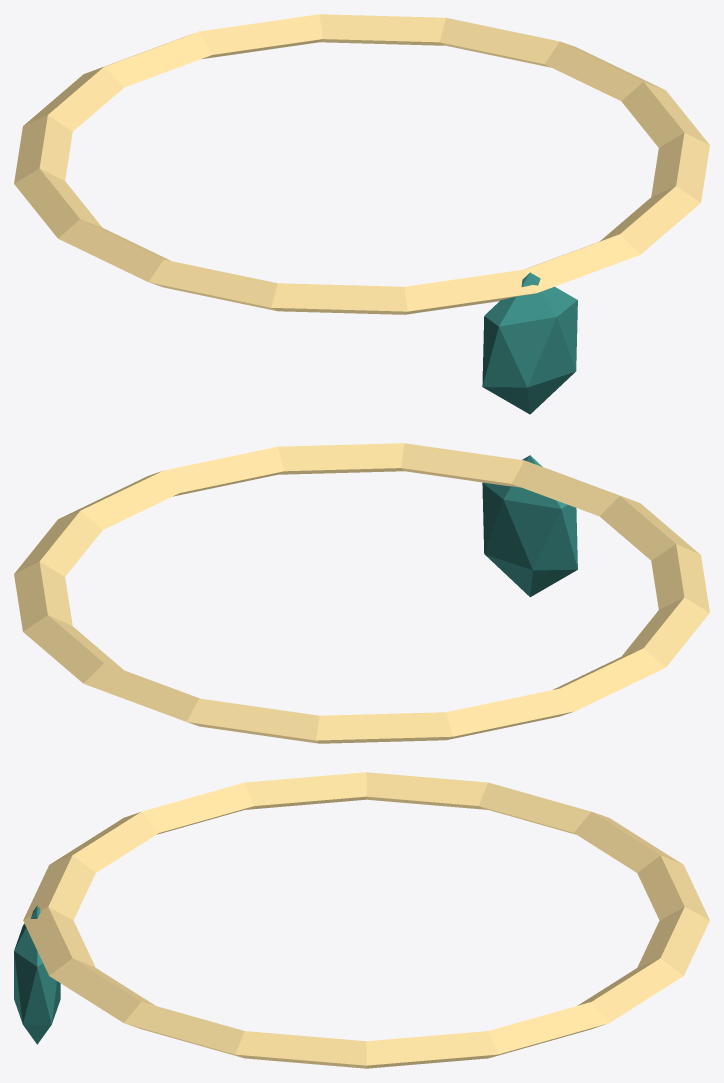
Rendered from necklace_chain.glb.
3 renders of one model, top to bottom at view 1: azimuth 30°, elevation 25°; view 2: azimuth 150°, elevation 25°; view 3: azimuth 270°, elevation 25°, orthographic. The views are drawn at different scales.
Parts seen in each view (by area): view 1: chain, pendant; view 2: chain, pendant; view 3: chain, pendant.
Boxes of the visible parts, x1=… form: chain: x1=14, y1=14, x2=709, y2=314; pendant: x1=482, y1=272, x2=577, y2=414; chain: x1=14, y1=443, x2=709, y2=743; pendant: x1=482, y1=455, x2=577, y2=597; chain: x1=23, y1=772, x2=709, y2=1068; pendant: x1=14, y1=905, x2=60, y2=1044.
Size of the model in its own units: 0.626 by 0.14 by 0.6343.
